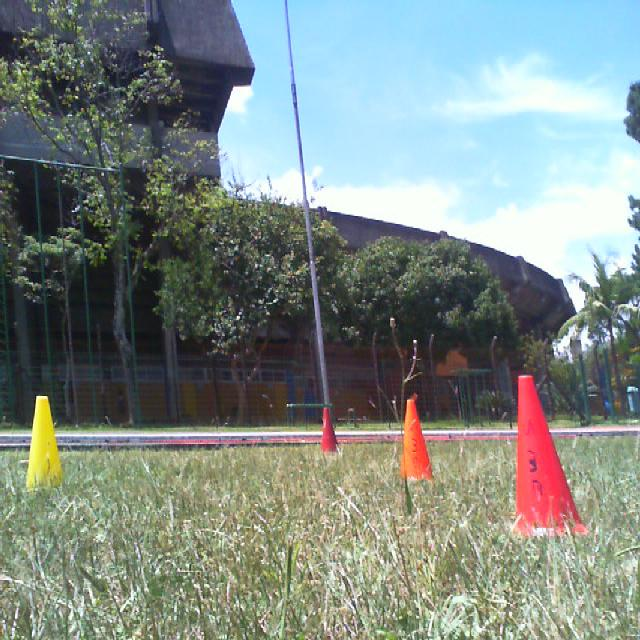cone: (512, 375, 588, 537), (25, 395, 62, 492), (398, 400, 434, 486), (319, 408, 338, 453)
